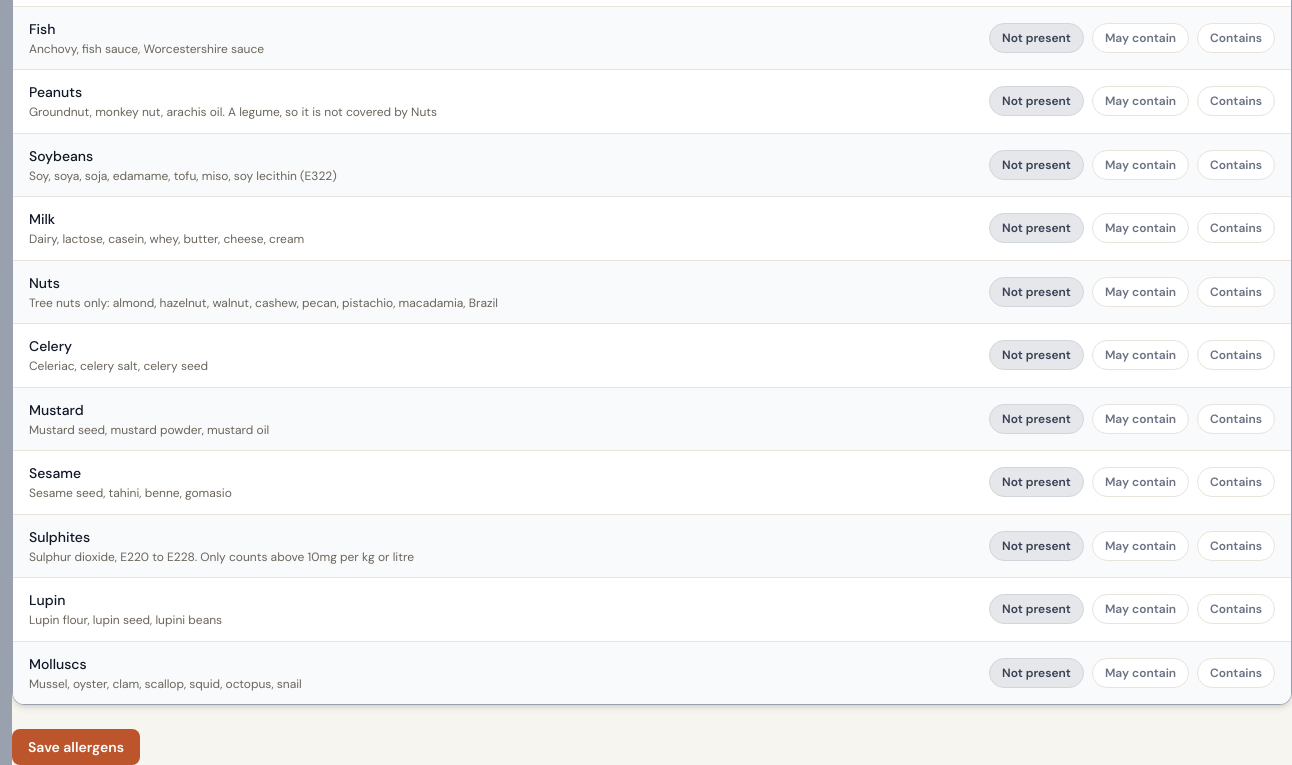
it: saving › tells it nothing when the save did not go through
(page scrolled)
Click the button "Save allergens". click: (76, 747)
box: [12, 729, 140, 764]
(page scrolled)
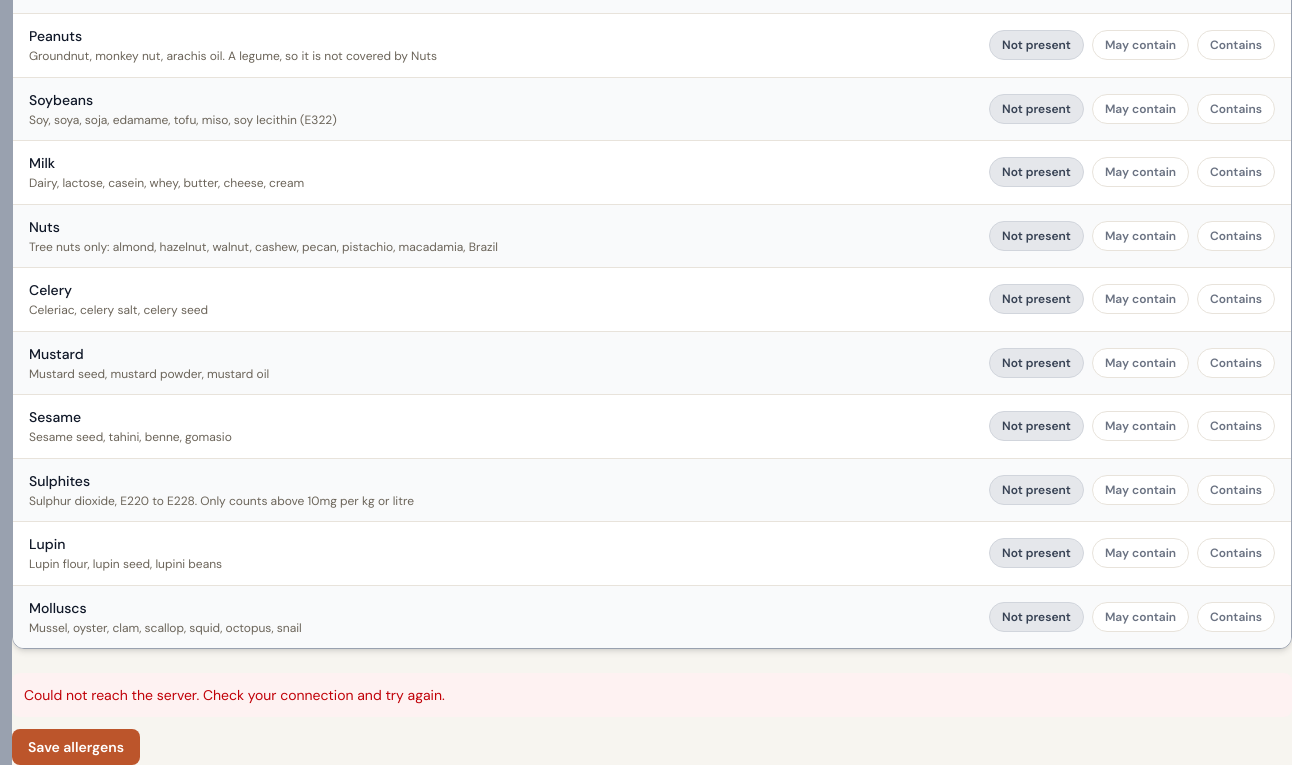
Now the message "Could not reach the server. Check your connection and try again." is shown, box [12, 673, 1291, 717]
